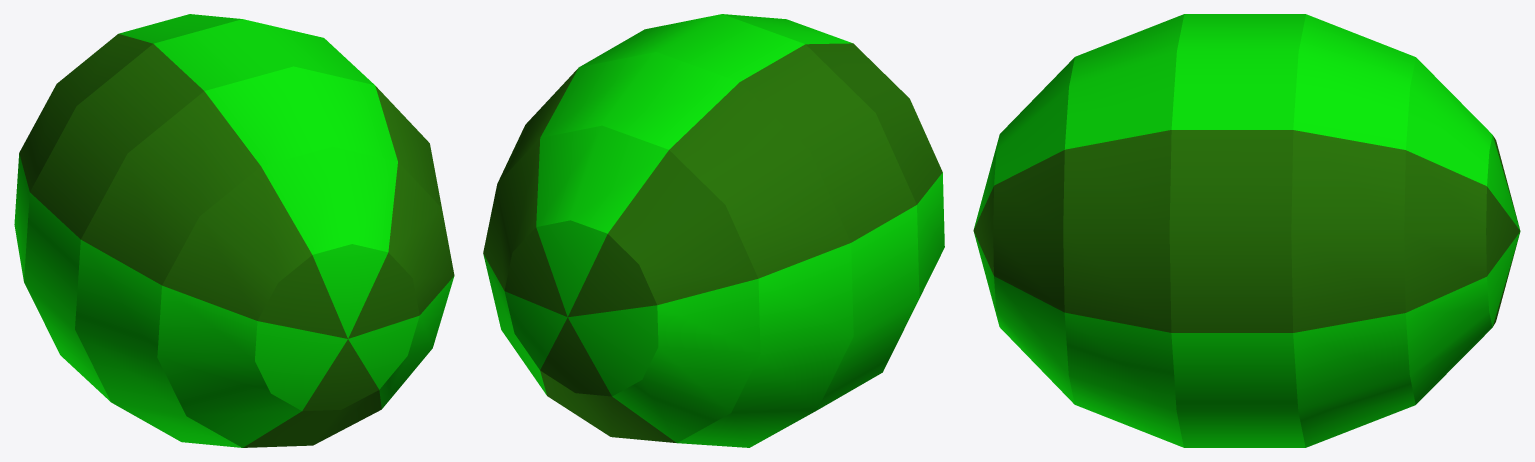
File: Watermelon.fbx
3 views of the same model, side by side, from view 1: azimuth 30°, elevation 25°; view 2: azimuth 150°, elevation 25°; view 3: azimuth 270°, elevation 25° (orthographic). The views are drawn at different scales.
Parts seen in each view (by area): view 1: pSphere1; view 2: pSphere1; view 3: pSphere1.
Part boxes in pixels (box(x1,y1,x2,y2)): pSphere1: box(14, 14, 454, 447); pSphere1: box(483, 14, 944, 447); pSphere1: box(973, 14, 1520, 447).
Size of the model in its own units: 1.96 by 1.95 by 2.44.
